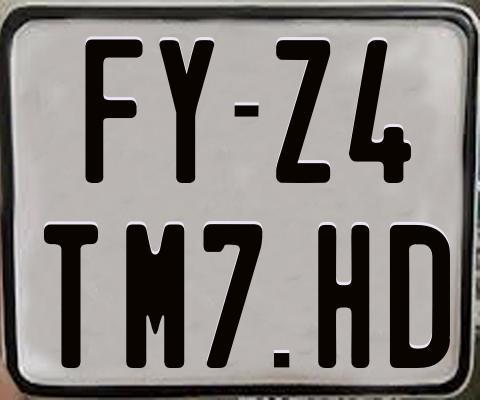4: (346, 39, 409, 182)
7: (203, 224, 265, 371)
D: (388, 224, 453, 373)
F: (84, 39, 143, 187)
H: (318, 223, 370, 367)
M: (124, 223, 183, 373)
T: (42, 222, 100, 367)
Y: (156, 37, 213, 181)
Z: (275, 37, 330, 181)
